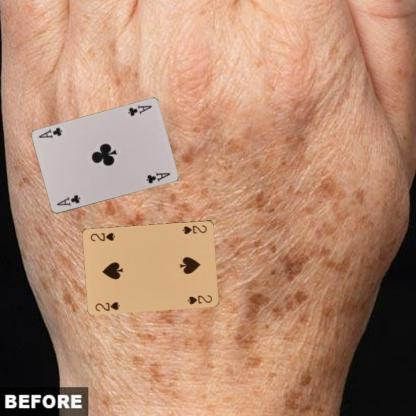2s: (92, 299, 121, 312), (180, 223, 208, 235)
Ac: (54, 192, 82, 208), (125, 103, 153, 117)
